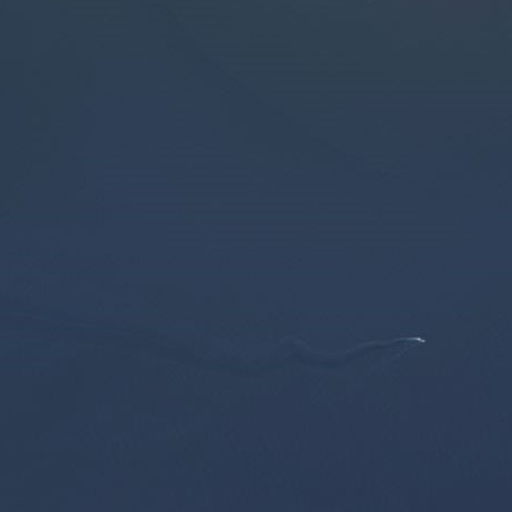ship: (408, 334, 429, 348)
